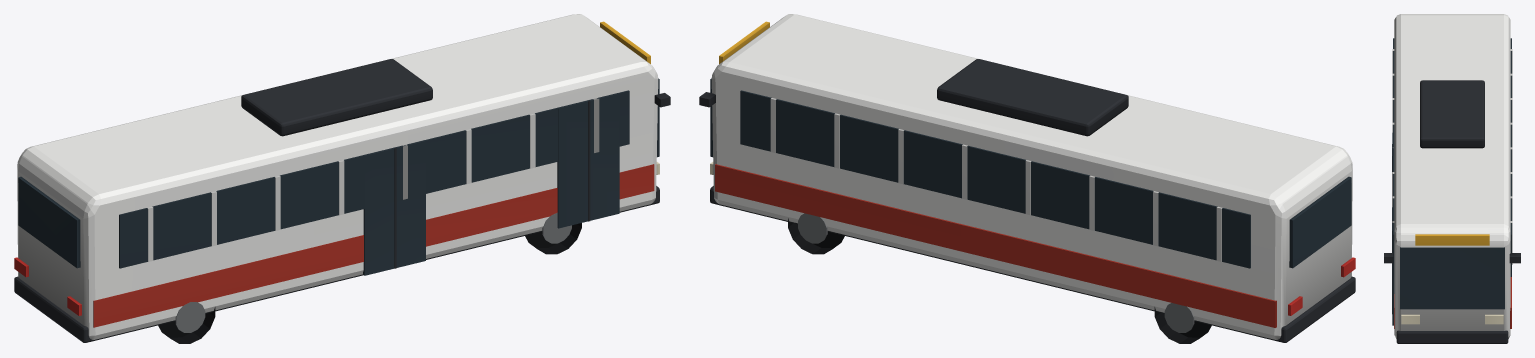
Rendered from colectivo-rojo-CbcF1bA4.glb.
3 views of the same model, side by side, from view 1: azimuth 30°, elevation 25°; view 2: azimuth 150°, elevation 25°; view 3: azimuth 270°, elevation 25° (orthographic). The views are drawn at different scales.
Visible parts, largest first — view 1: carroceria, pieza.003, pieza, pieza.028, pieza.025, pieza.023, pieza.022, pieza.002, rueda, rueda.004, rueda.001, rueda.005; view 2: carroceria, pieza.012, pieza.001, pieza.028, pieza.022, pieza.002, rueda.002, rueda.006, rueda.003, rueda.007; view 3: carroceria, pieza.021, pieza.028, pieza.002, pieza.027, pieza.012, pieza.003, pieza.023, pieza.031, pieza.033, pieza.030.
Part boxes in pixels (x1,y1,x2,y2): carroceria: (17,14,658,339); pieza.003: (119,90,629,268); pieza: (93,164,654,327); pieza.028: (241,59,432,136); pieza.025: (363,140,425,275); pieza.023: (557,93,619,228); pieza.022: (18,176,80,268); pieza.002: (14,186,659,342); rueda: (158,307,215,343); rueda.004: (525,223,581,254); rueda.001: (175,302,205,332); rueda.005: (542,212,571,243); carroceria: (711,14,1352,339); pieza.012: (740,90,1250,268); pieza.001: (715,164,1276,327); pieza.028: (937,59,1128,136); pieza.022: (1289,176,1351,268); pieza.002: (710,186,1355,342); rueda.002: (1154,307,1211,343); rueda.006: (788,218,844,254); rueda.003: (1164,303,1194,332); rueda.007: (798,213,827,243); carroceria: (1394,14,1510,338); pieza.021: (1400,247,1504,309); pieza.028: (1420,80,1484,148); pieza.002: (1396,330,1508,343); pieza.027: (1415,234,1489,245); pieza.012: (1510,38,1511,276); pieza.003: (1393,38,1394,276); pieza.023: (1392,207,1394,325); pieza.031: (1401,314,1419,324); pieza.033: (1485,314,1503,324); pieza.030: (1509,253,1520,263).
Size of the model in its own units: 11.4 by 3.4 by 2.94.
